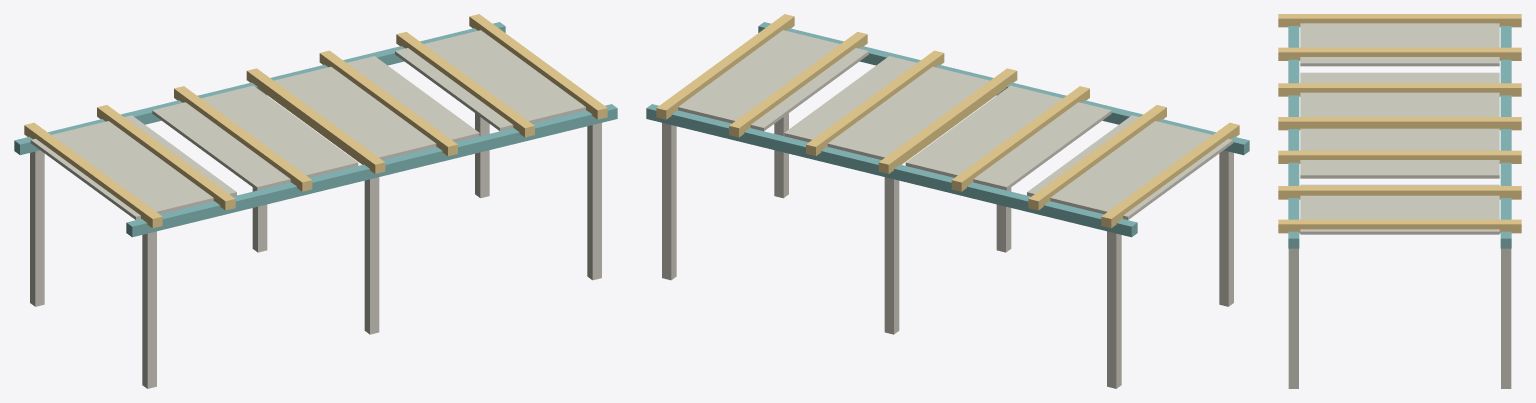
3 renders of one model, left to right at view 1: azimuth 30°, elevation 25°; view 2: azimuth 150°, elevation 25°; view 3: azimuth 270°, elevation 25°, orthographic. The views are drawn at different scales.
Size of the model in its own units: 12 by 4.11 by 5.5.
